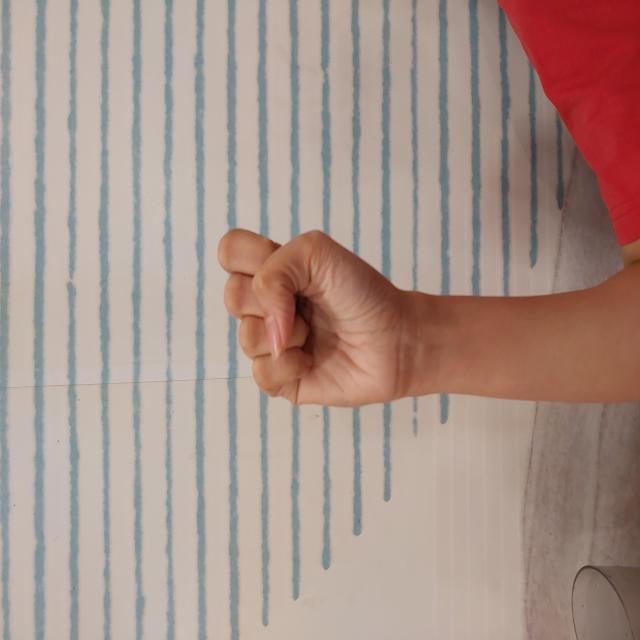S: (230, 216, 416, 414)
